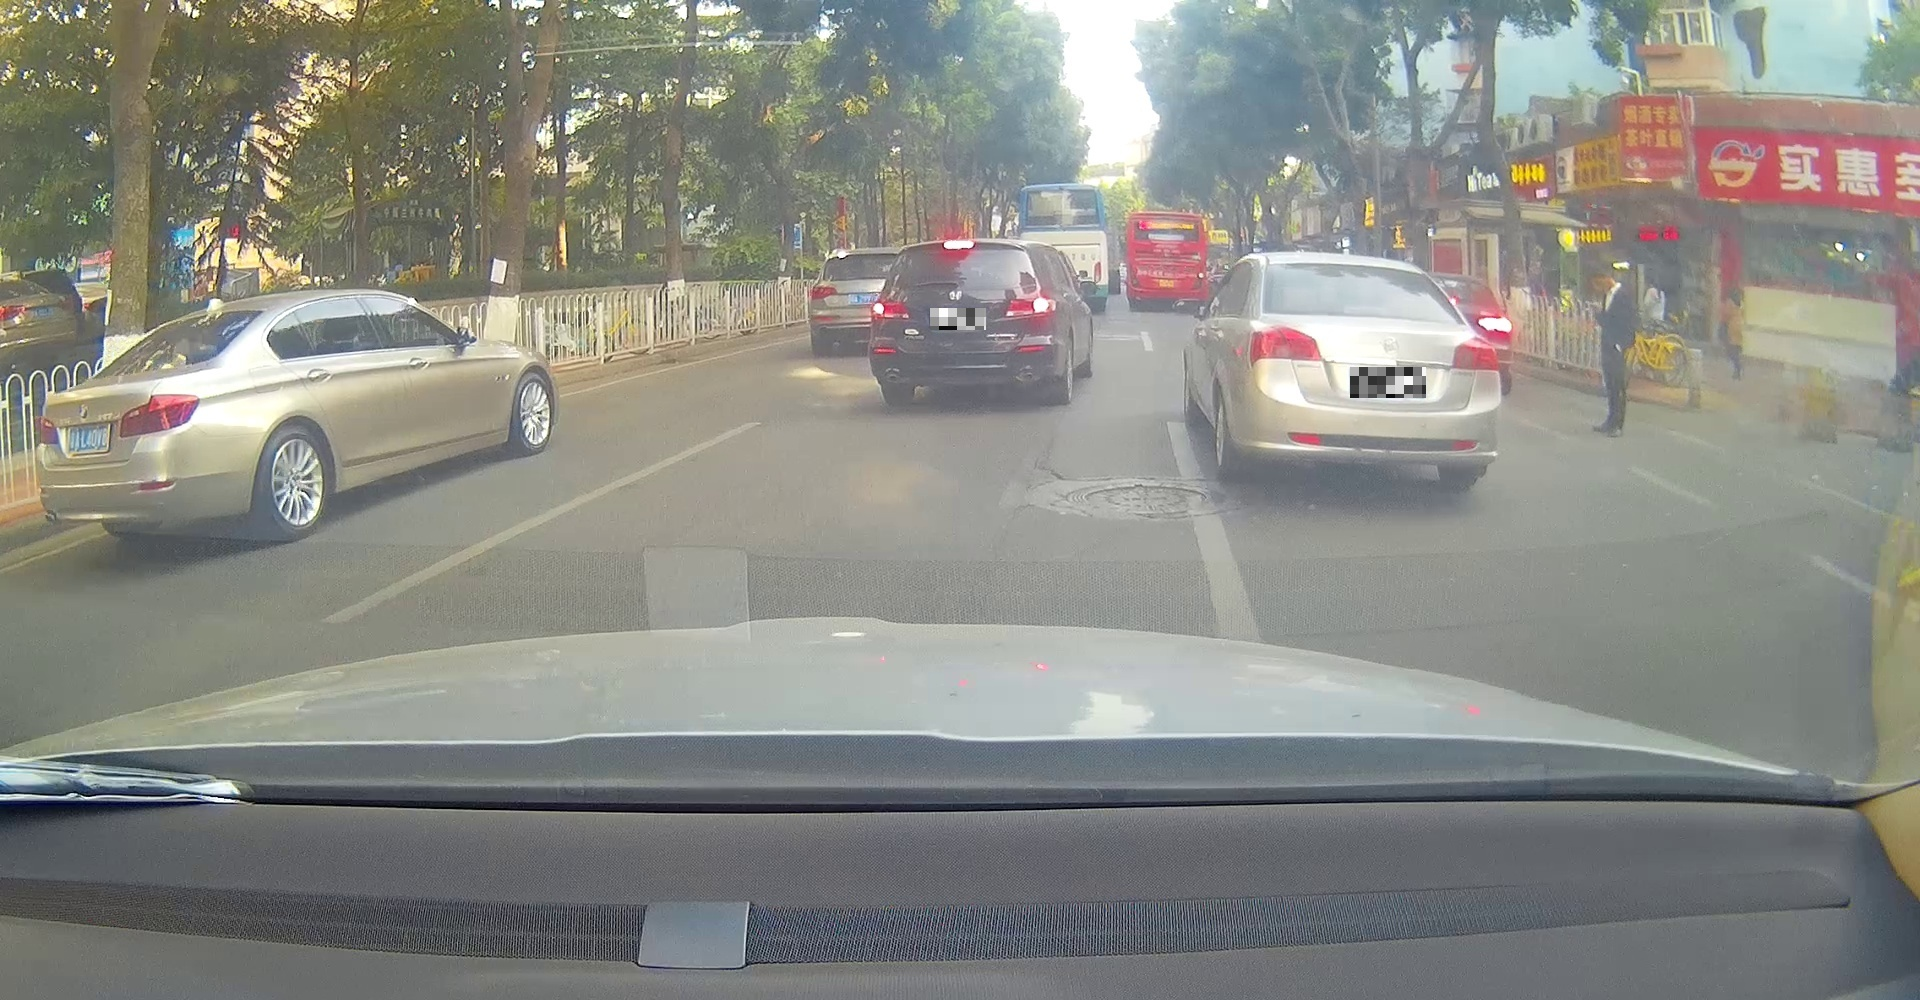L_light: (1250, 324, 1322, 365), (870, 299, 910, 319)
R_light: (1451, 336, 1498, 372), (1004, 293, 1057, 319)
T_light: (943, 240, 975, 250), (1335, 264, 1369, 270)
day-brake: (870, 237, 1062, 406)
day-no: (1234, 253, 1502, 489)
plate_1: (930, 308, 985, 330)
plate_2: (1350, 367, 1426, 398)
